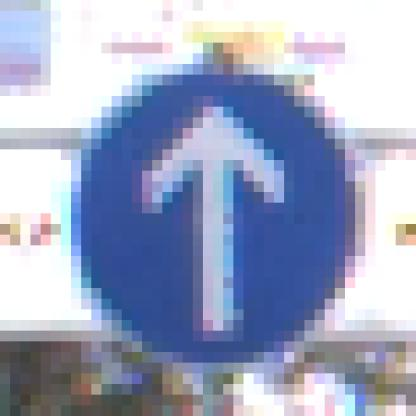AheadOnly: (62, 54, 366, 364)
